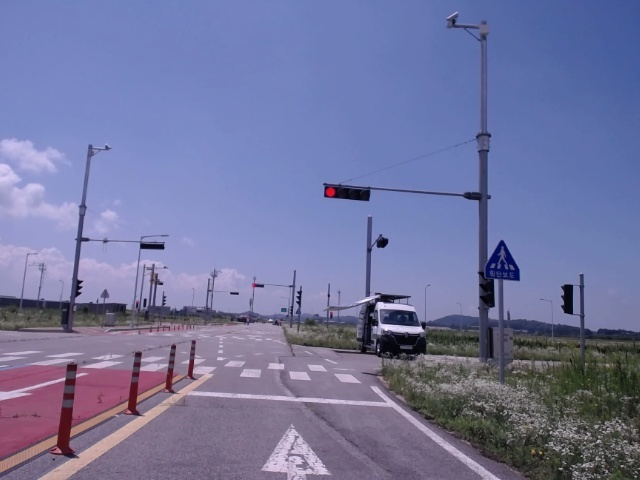red_4: (324, 186, 370, 201)
